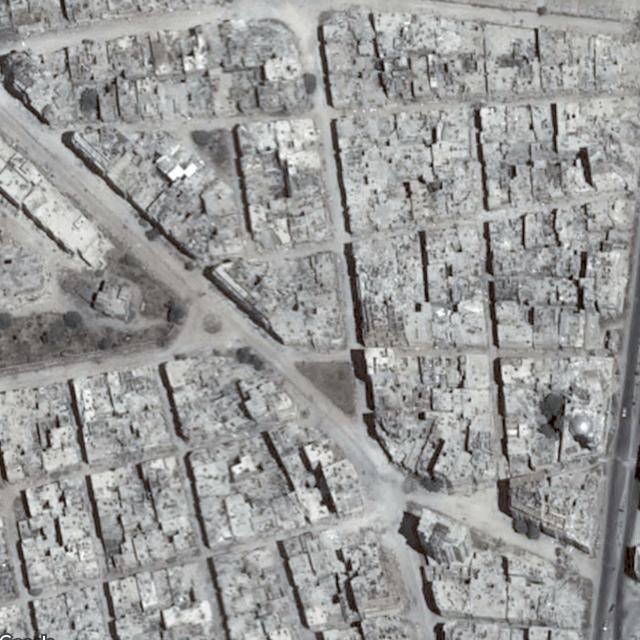damaged_building: (209, 252, 349, 354), (351, 233, 426, 313), (175, 392, 256, 436), (320, 5, 372, 45)
